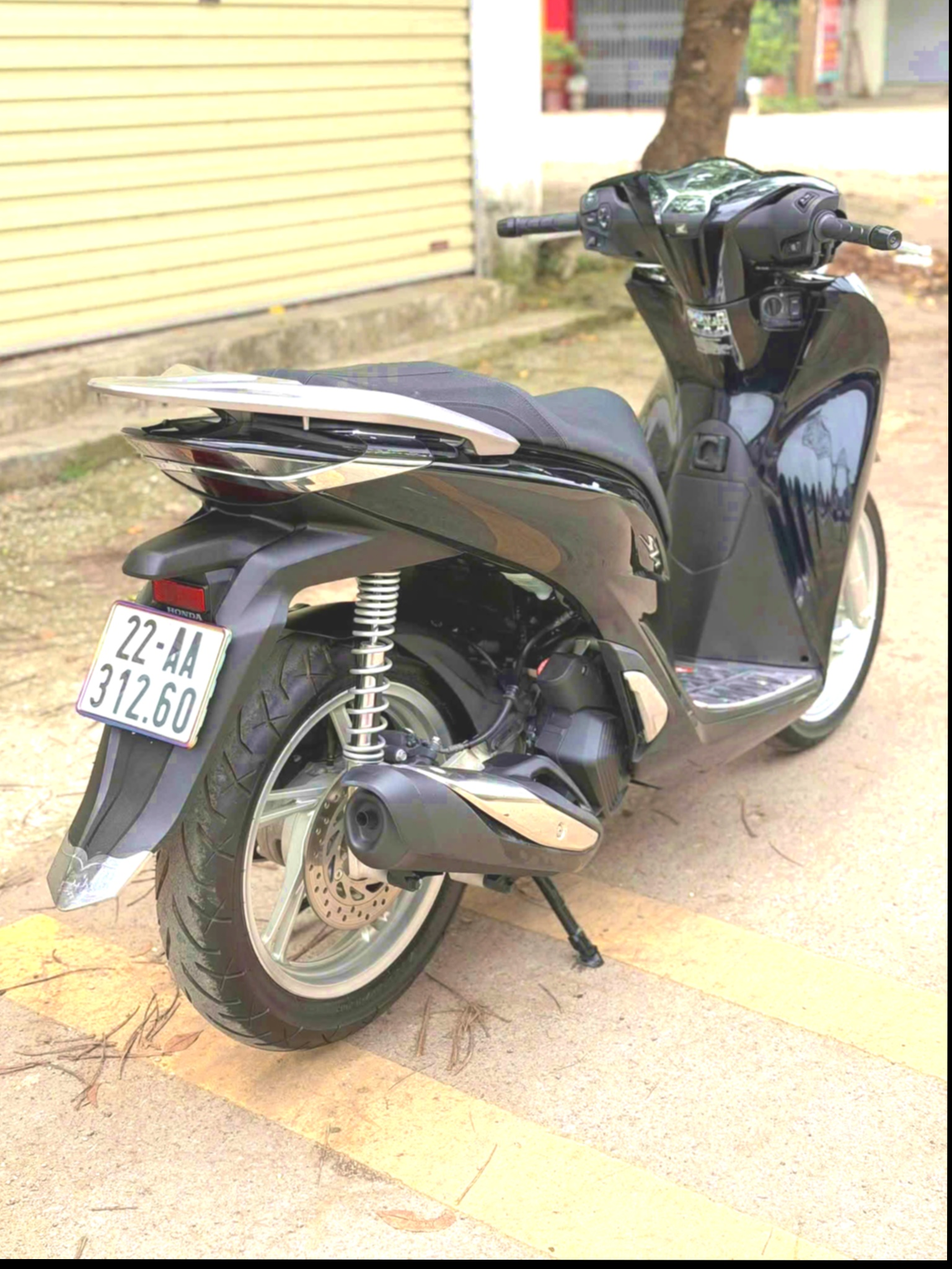Bien-so: (97, 590, 257, 730)
